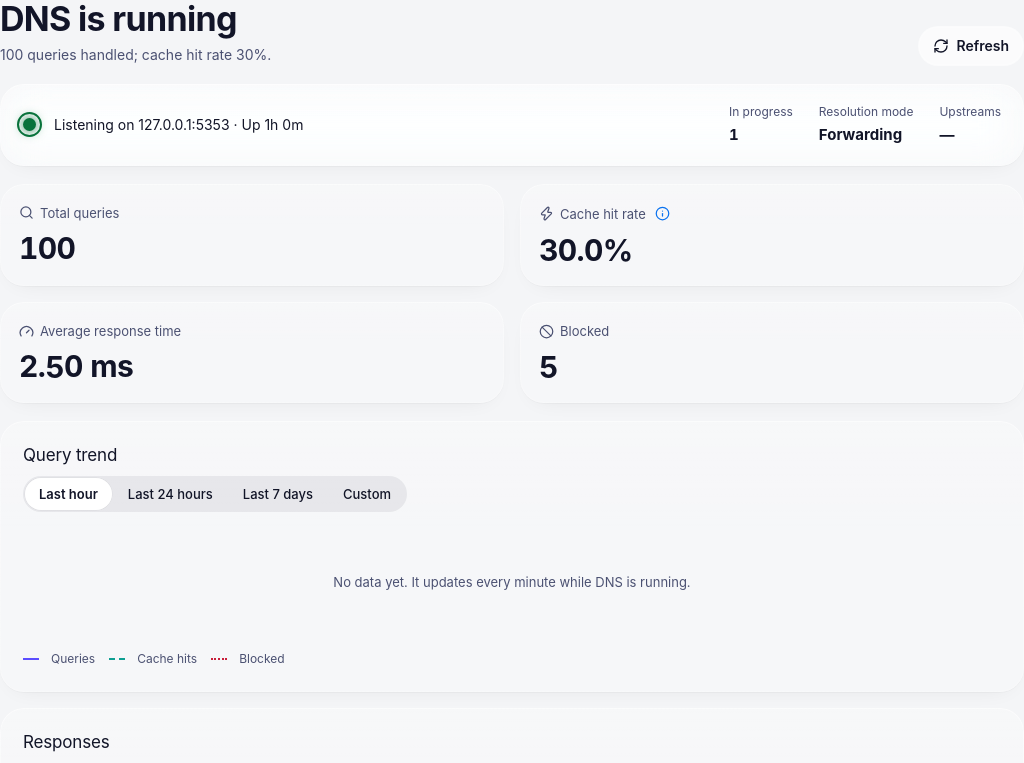
OverviewPage › retains last good status and offers refresh on a later read failure
What coordinates should you click on to do the following:
click the button "Refresh"
I would click on:
 (971, 46)
Its box is [918, 26, 1023, 66].
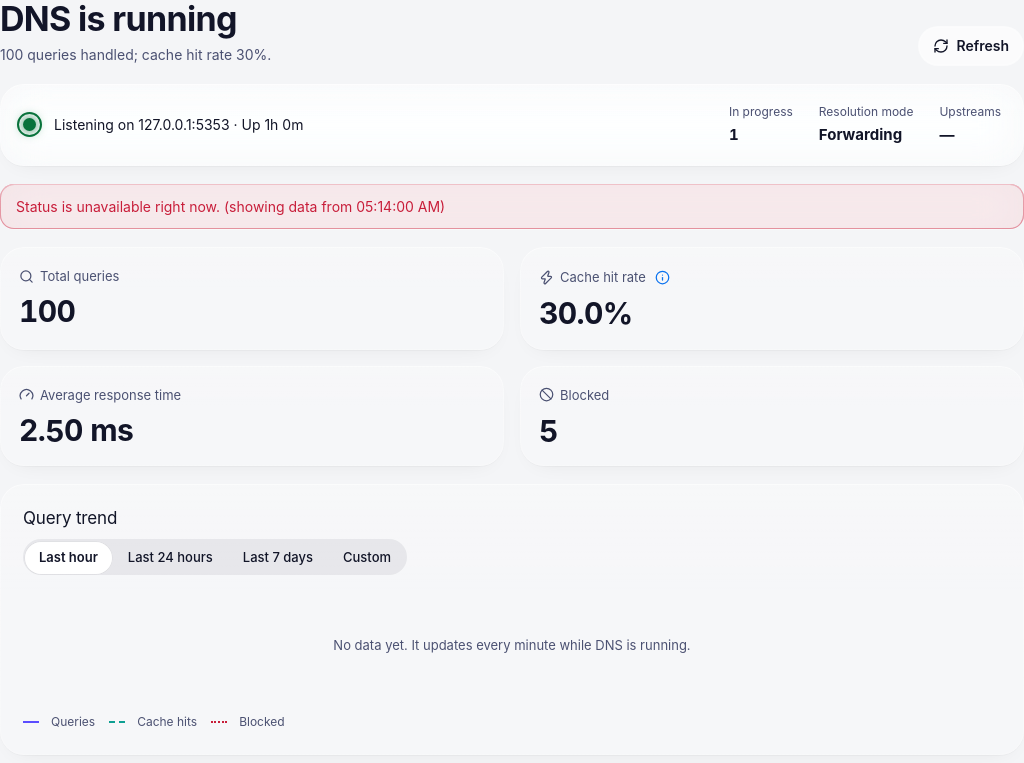
Result: the message shows "unavailable right now" at [16, 198, 220, 215]
